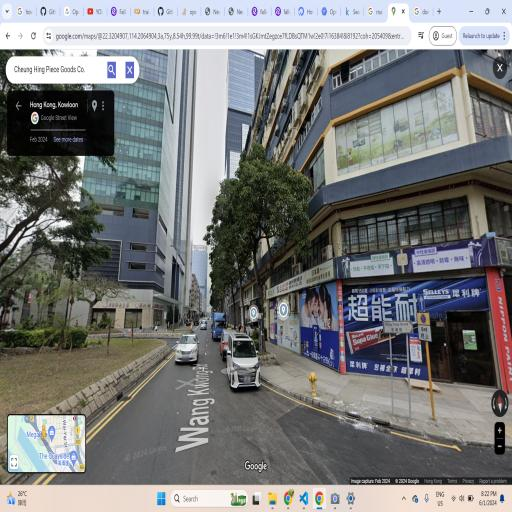Roads: (144, 316, 274, 490)
Trees: (222, 149, 320, 362), (193, 183, 282, 340)
